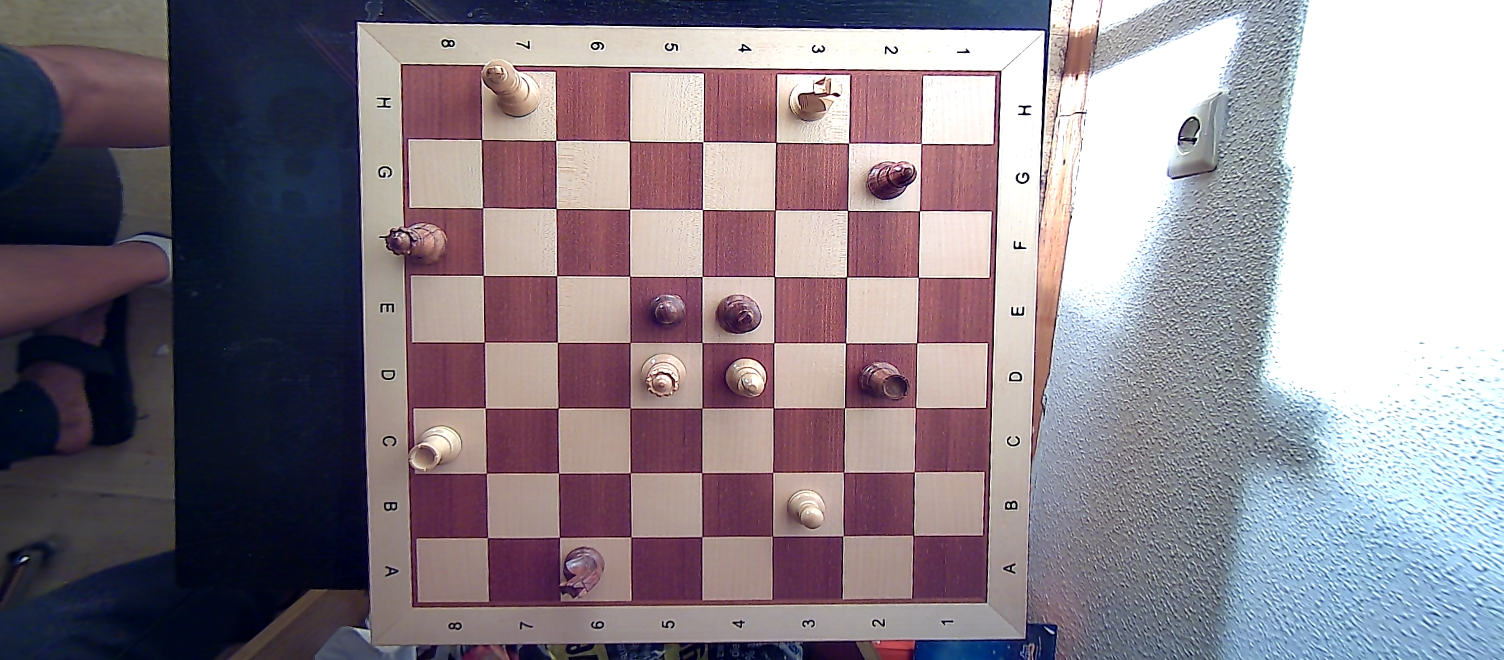black-bishop: (860, 154, 918, 201)
black-king: (710, 287, 766, 339)
black-knight: (554, 537, 609, 600)
black-pawn: (643, 290, 688, 331)
black-queen: (383, 218, 448, 269)
black-rook: (856, 356, 911, 404)
white-bishop: (722, 352, 769, 403)
white-king: (478, 54, 542, 122)
white-knight: (788, 73, 842, 126)
white-pawn: (784, 484, 828, 531)
white-queen: (639, 350, 689, 400)
white-rook: (405, 424, 468, 476)
